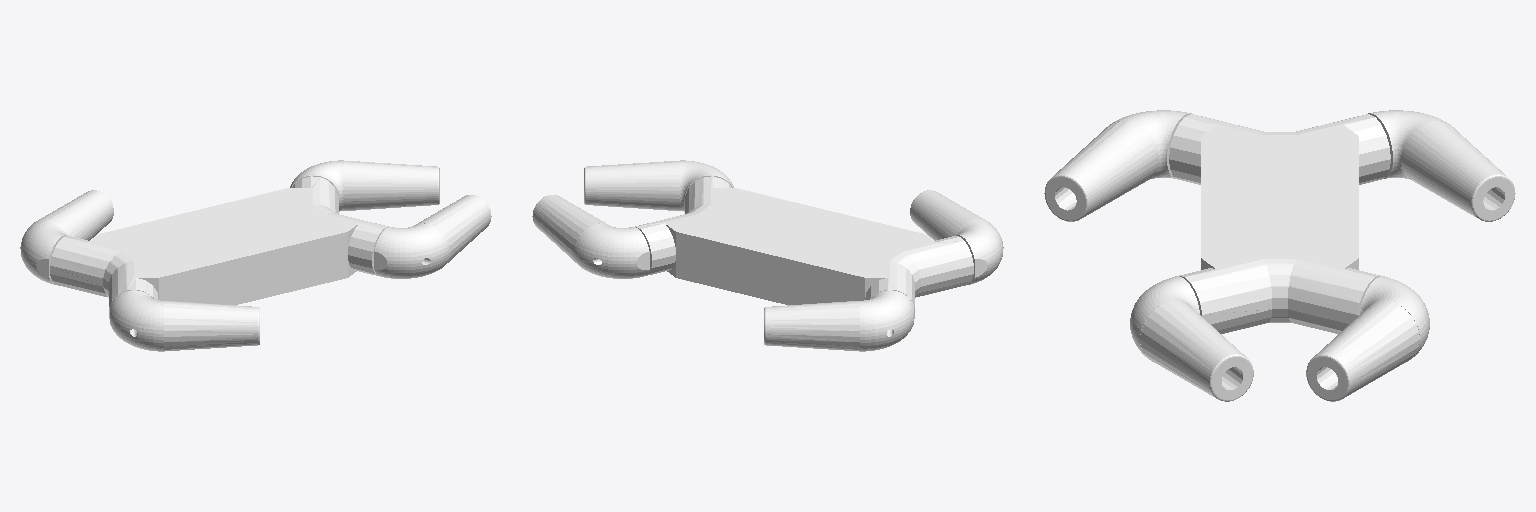
robot.urdf — 30_degree:
<?xml version="1.0" encoding="utf-8"?>
<!-- This URDF was automatically created by SolidWorks to URDF Exporter! Originally created by [author] ([email redacted]) 
     Commit Version: 1.5.1-0-g916b5db  Build Version: 1.5.7152.31018
     For more information, please see http://wiki.ros.org/sw_urdf_exporter -->
<robot
  name="30_degree">
  <link
    name="base_link">
    <inertial>
      <origin
        xyz="-6.245E-17 5.4293E-08 1.6547E-08"
        rpy="0 0 0" />
      <mass
        value="2.942" />
      <inertia
        ixx="0.0092249"
        ixy="7.0243E-09"
        ixz="-1.5154E-10"
        iyy="0.0495397"
        iyz="8.4414E-19"
        izz="0.0563174" />
    </inertial>
    <visual>
      <origin
        xyz="0 0 0"
        rpy="0 0 0" />
      <geometry>
        <mesh
          filename="package://30_degree/meshes/base_link.STL" />
      </geometry>
      <material
        name="">
        <color
          rgba="1 1 1 1" />
      </material>
    </visual>
    <collision>
      <origin
        xyz="0 0 0"
        rpy="0 0 0" />
      <geometry>
        <mesh
          filename="package://30_degree/meshes/base_link.STL" />
      </geometry>
    </collision>
  </link>
  <link
    name="left_front_link">
    <inertial>
      <origin
        xyz="-8.8303E-08 0.067224 -0.0027689"
        rpy="0 0 0" />
      <mass
        value="0.092" />
      <inertia
        ixx="0.0002604"
        ixy="3.3594E-10"
        ixz="4.6964E-10"
        iyy="0.0000842"
        iyz="-0.0000774"
        izz="0.0002259" />
    </inertial>
    <visual>
      <origin
        xyz="0 0 0"
        rpy="0 0 0" />
      <geometry>
        <mesh
          filename="package://30_degree/meshes/left_front_link.STL" />
      </geometry>
      <material
        name="">
        <color
          rgba="1 1 1 1" />
      </material>
    </visual>
    <collision>
      <origin
        xyz="0 0 0"
        rpy="0 0 0" />
      <geometry>
        <mesh
          filename="package://30_degree/meshes/left_front_link.STL" />
      </geometry>
    </collision>
  </link>
  <joint
    name="left_front_leg"
    type="continuous">
    <origin
      xyz="0.1815 0.089201 0"
      rpy="1.5708 1.5708 0" />
    <parent
      link="base_link" />
    <child
      link="left_front_link" />
    <axis
      xyz="0 0.5 -0.86603" />
    <limit
      effort="5"
      velocity="487" />
  </joint>
  <link
    name="right_front_link">
    <inertial>
      <origin
        xyz="8.8303E-08 0.067224 0.0027689"
        rpy="0 0 0" />
      <mass
        value="0.092" />
      <inertia
        ixx="0.0002604"
        ixy="-3.3594E-10"
        ixz="4.6964E-10"
        iyy="0.0000842"
        iyz="0.0000774"
        izz="0.0002259" />
    </inertial>
    <visual>
      <origin
        xyz="0 0 0"
        rpy="0 0 0" />
      <geometry>
        <mesh
          filename="package://30_degree/meshes/right_front_link.STL" />
      </geometry>
      <material
        name="">
        <color
          rgba="1 1 1 1" />
      </material>
    </visual>
    <collision>
      <origin
        xyz="0 0 0"
        rpy="0 0 0" />
      <geometry>
        <mesh
          filename="package://30_degree/meshes/right_front_link.STL" />
      </geometry>
    </collision>
  </link>
  <joint
    name="right_front_leg"
    type="continuous">
    <origin
      xyz="0.1815 -0.089201 0"
      rpy="1.5708 1.5708 0" />
    <parent
      link="base_link" />
    <child
      link="right_front_link" />
    <axis
      xyz="0 0.5 0.86603" />
    <limit
      effort="5"
      velocity="487" />
  </joint>
  <link
    name="right_back_link">
    <inertial>
      <origin
        xyz="8.1005E-08 0.056834 0.03601"
        rpy="0 0 0" />
      <mass
        value="0.092" />
      <inertia
        ixx="0.0002604"
        ixy="-5.043E-10"
        ixz="1.5614E-10"
        iyy="0.0000526"
        iyz="-2.27E-05"
        izz="0.0002575" />
    </inertial>
    <visual>
      <origin
        xyz="0 0 0"
        rpy="0 0 0" />
      <geometry>
        <mesh
          filename="package://30_degree/meshes/right_back_link.STL" />
      </geometry>
      <material
        name="">
        <color
          rgba="1 1 1 1" />
      </material>
    </visual>
    <collision>
      <origin
        xyz="0 0 0"
        rpy="0 0 0" />
      <geometry>
        <mesh
          filename="package://30_degree/meshes/right_back_link.STL" />
      </geometry>
    </collision>
  </link>
  <joint
    name="right_back_leg"
    type="continuous">
    <origin
      xyz="-0.1815 -0.089201 0"
      rpy="2.0944 1.5708 0" />
    <parent
      link="base_link" />
    <child
      link="right_back_link" />
    <axis
      xyz="0 0 1" />
    <limit
      effort="5"
      velocity="487" />
  </joint>
  <link
    name="left_back_link">
    <inertial>
      <origin
        xyz="-8.1005E-08 0.031215 -0.059603"
        rpy="0 0 0" />
      <mass
        value="0.092" />
      <inertia
        ixx="0.0002604"
        ixy="5.1481E-10"
        ixz="-1.1692E-10"
        iyy="0.0001235"
        iyz="0.0001001"
        izz="0.0001867" />
    </inertial>
    <visual>
      <origin
        xyz="0 0 0"
        rpy="0 0 0" />
      <geometry>
        <mesh
          filename="package://30_degree/meshes/left_back_link.STL" />
      </geometry>
      <material
        name="">
        <color
          rgba="1 1 1 1" />
      </material>
    </visual>
    <collision>
      <origin
        xyz="0 0 0"
        rpy="0 0 0" />
      <geometry>
        <mesh
          filename="package://30_degree/meshes/left_back_link.STL" />
      </geometry>
    </collision>
  </link>
  <joint
    name="left_back_leg"
    type="continuous">
    <origin
      xyz="-0.1815 0.089201 0"
      rpy="1.5708 1.5708 0" />
    <parent
      link="base_link" />
    <child
      link="left_back_link" />
    <axis
      xyz="0 -0.5 -0.86603" />
    <limit
      effort="5"
      velocity="487" />
  </joint>
</robot>

--- Facts derived from the render (not from the file) ---
The picture shows the robot from 3 angles, left to right: view 1: azimuth 30°, elevation 25°; view 2: azimuth 150°, elevation 25°; view 3: azimuth 270°, elevation 25°; orthographic projection.
Robot: 30_degree — 5 links, 4 joints (4 continuous); root link base_link; default pose: all joints at 0.
Visible links, largest first — view 1: base_link, right_back_link, right_front_link, left_front_link, left_back_link; view 2: base_link, left_back_link, left_front_link, right_front_link, right_back_link; view 3: base_link, left_front_link, right_front_link, right_back_link, left_back_link.
Boxes of the visible links, <box> form: base_link: <box>50,176,388,318</box>; right_back_link: <box>110,290,259,351</box>; right_front_link: <box>374,195,491,278</box>; left_front_link: <box>290,160,439,211</box>; left_back_link: <box>20,190,113,284</box>; base_link: <box>635,176,973,318</box>; left_back_link: <box>764,290,913,351</box>; left_front_link: <box>532,195,649,278</box>; right_front_link: <box>584,160,733,211</box>; right_back_link: <box>910,190,1003,284</box>; base_link: <box>1169,114,1390,333</box>; left_front_link: <box>1306,276,1429,401</box>; right_front_link: <box>1130,276,1253,401</box>; right_back_link: <box>1044,110,1191,221</box>; left_back_link: <box>1368,110,1515,221</box>.
Size in the robot's own frame: 0.5694 by 0.4464 by 0.064 metres.
Meshes: 5 distinct files referenced, 5 mesh visuals loaded (5 binary STL).